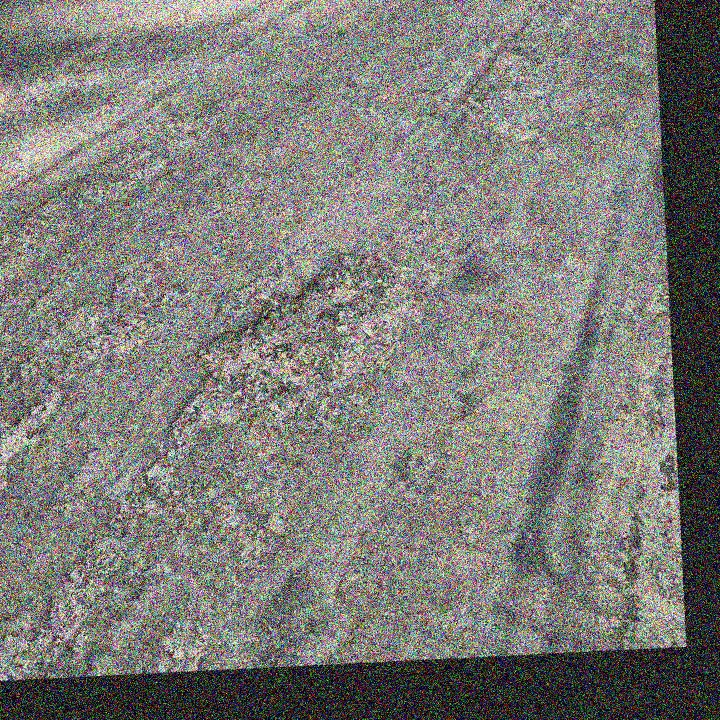pothole: (187, 265, 374, 399)
